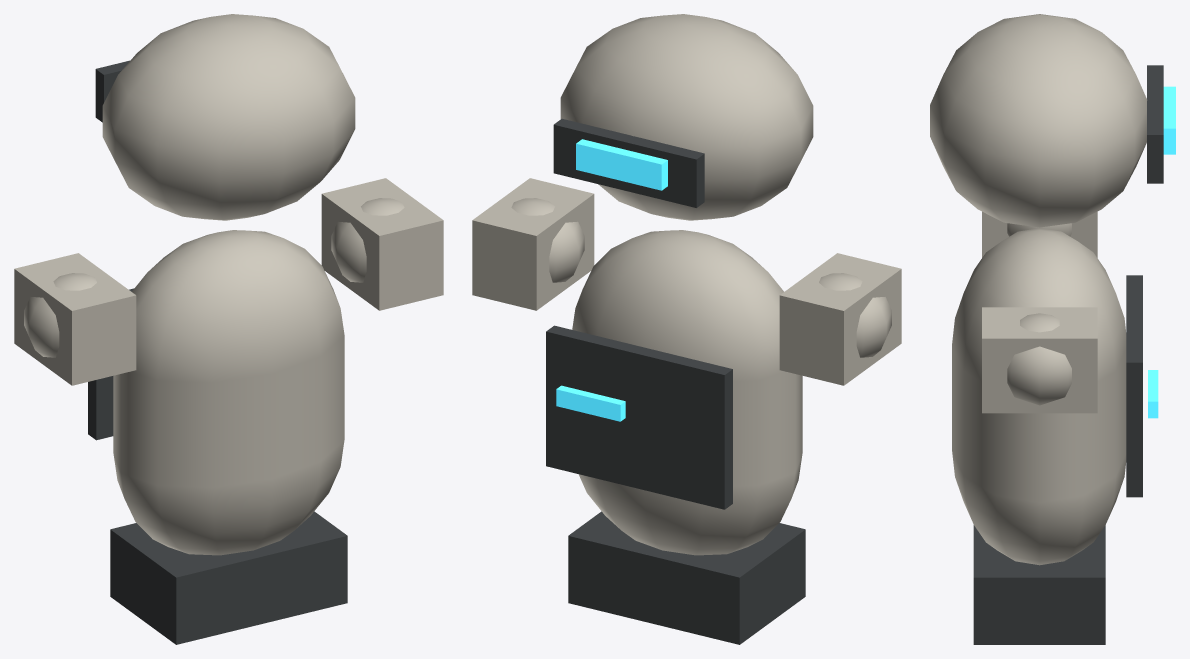
Rendered from repairRobot.glb.
3 views of the same model, side by side, from view 1: azimuth 30°, elevation 25°; view 2: azimuth 150°, elevation 25°; view 3: azimuth 270°, elevation 25° (orthographic).
Parts seen in each view (by area): view 1: LOD0-steel, LOD0-graphite; view 2: LOD0-steel, LOD0-graphite, LOD0-sensor; view 3: LOD0-steel, LOD0-graphite, LOD0-sensor.
Boxes of the visible parts, x1,y1,x2,y2 form: LOD0-steel: (14, 14, 443, 555); LOD0-graphite: (88, 60, 347, 644); LOD0-steel: (472, 14, 901, 555); LOD0-graphite: (546, 118, 805, 644); LOD0-sensor: (556, 139, 667, 421); LOD0-steel: (930, 14, 1147, 565); LOD0-graphite: (973, 65, 1163, 644); LOD0-sensor: (1148, 86, 1175, 418).
Size of what is drawn, in the model's own units: 1.12 by 1.54 by 0.5959.
